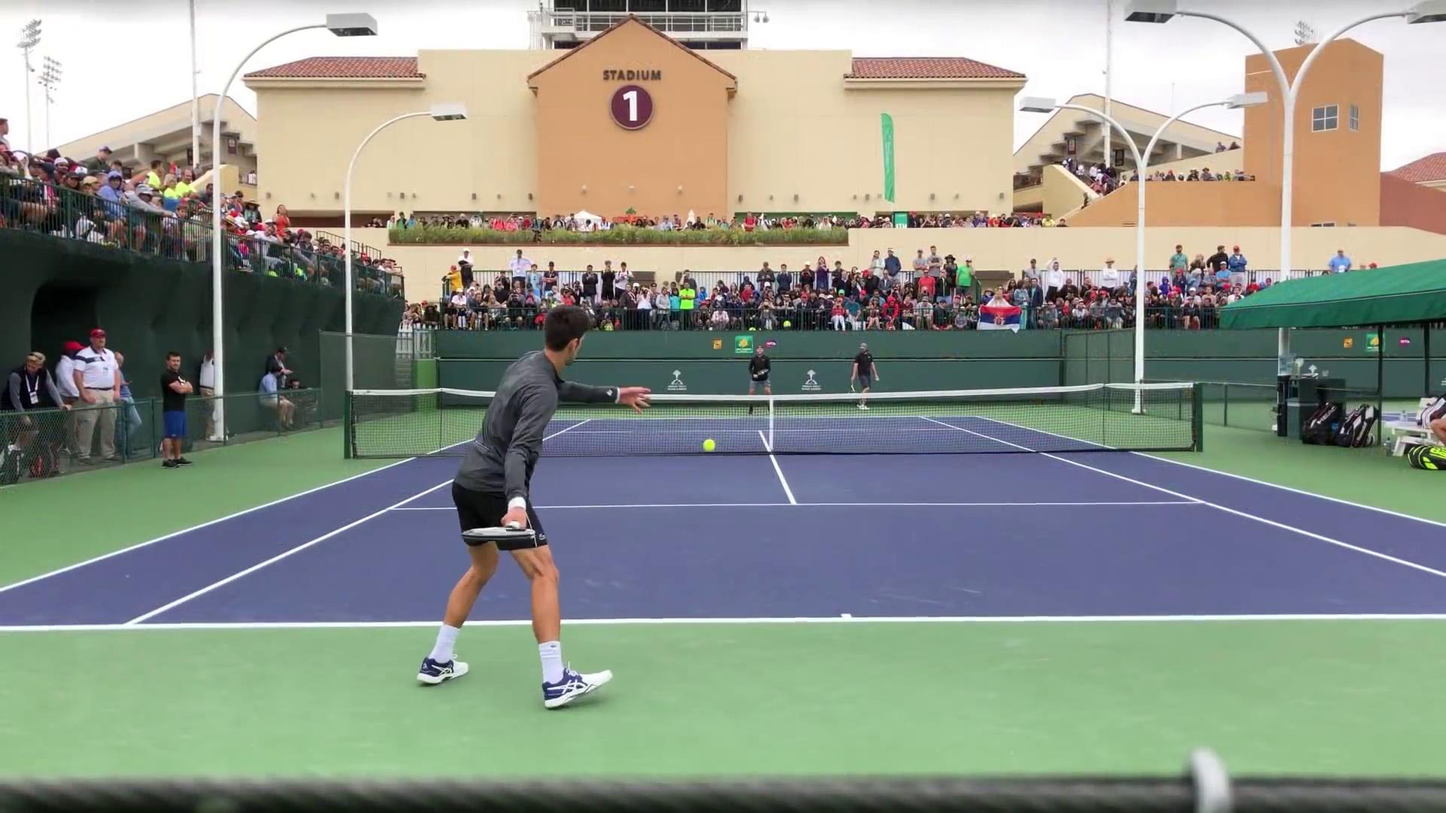ball: (702, 438, 715, 452)
